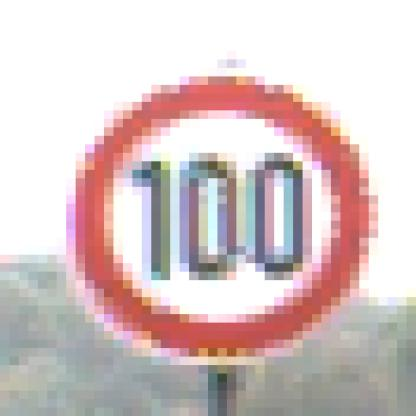Speed Limit 100: (68, 75, 373, 357)
